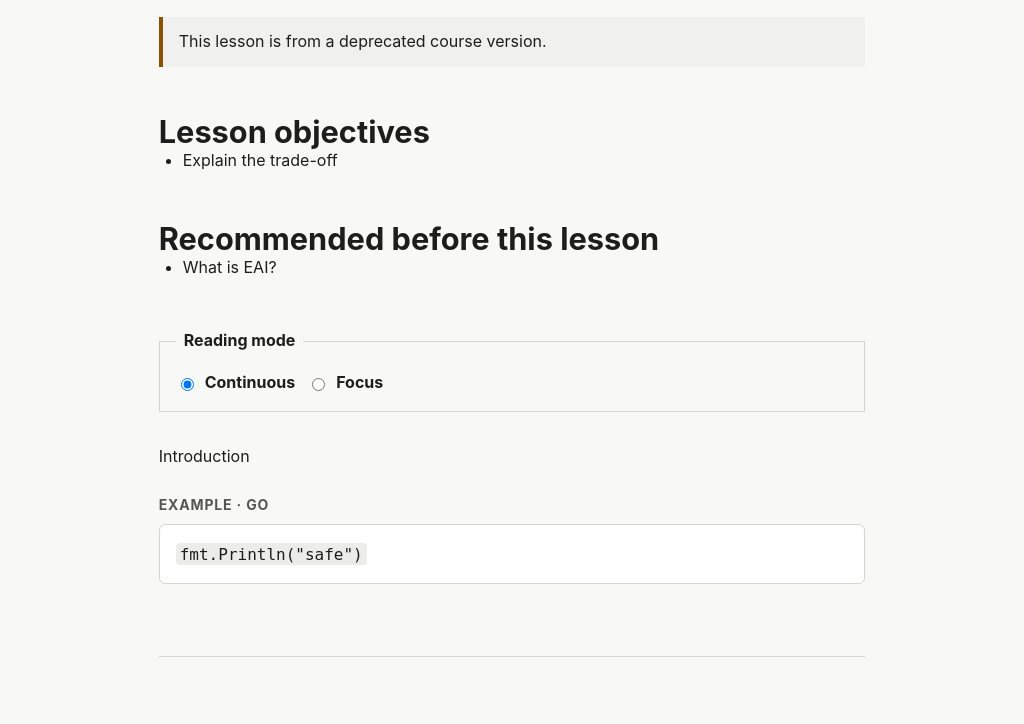
LessonPage › switches to a single accessible Focus block and honors navigation boundaries
(page scrolled)
Click the radio button labelled "Focus": x=319, y=384 [312,378,325,391]
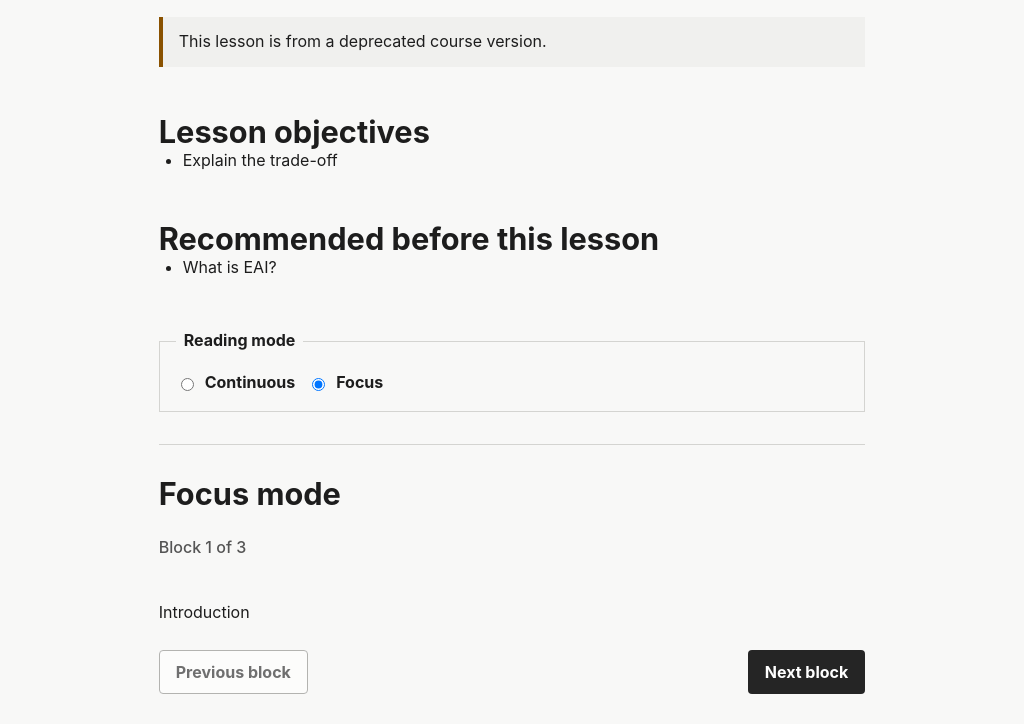
Expected: the text "Block 1 of 3" is shown, [159,537,246,557]
Expected: the button "Previous block" is disabled, [159,650,308,694]
Expected: the text "fmt.Println(\"safe\")" is gone
Click the button "Next block": x=807, y=672 [748,650,865,694]
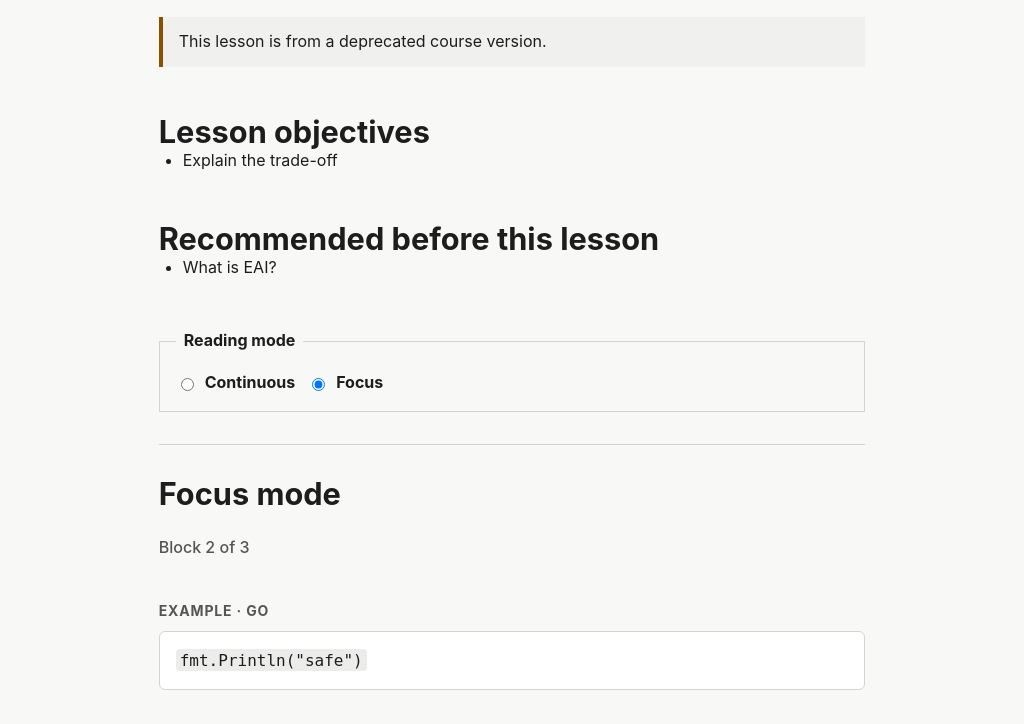
Expected: the text "Block 2 of 3" is shown, [159,537,250,557]
Expected: the text "fmt.Println(\"safe\")" is shown, [176,649,367,671]
Click the radio button labelled "Continuous": x=187, y=384 [181,378,194,391]
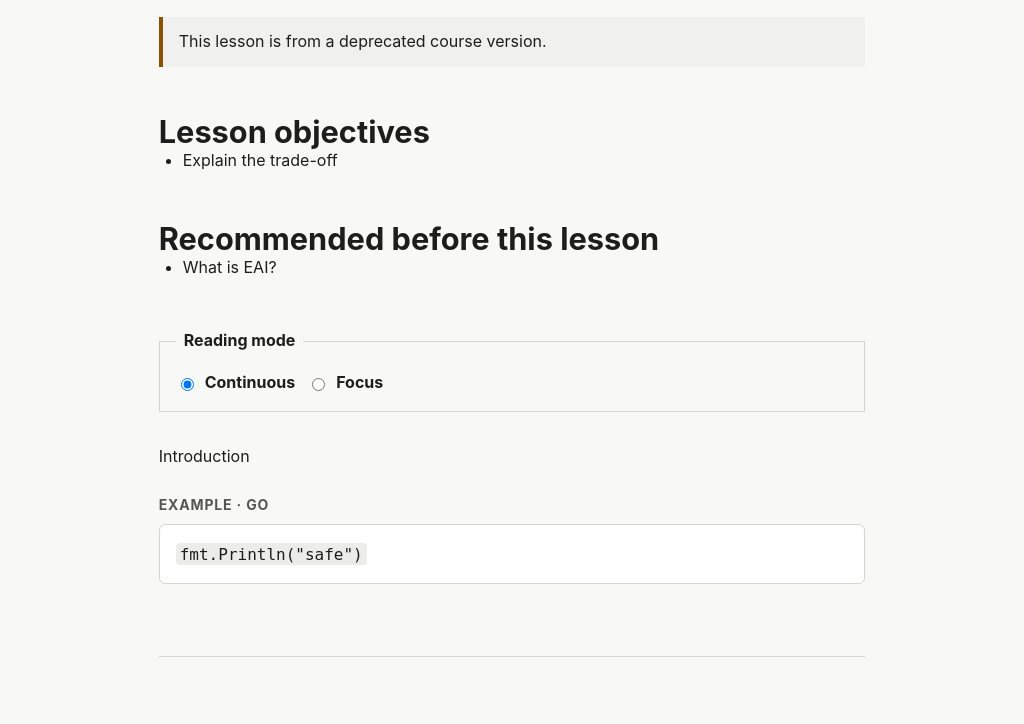
Expected: the text "fmt.Println(\"safe\")" is shown, [176,543,367,565]
Expected: the text "Introduction" is shown, [159,446,250,466]
